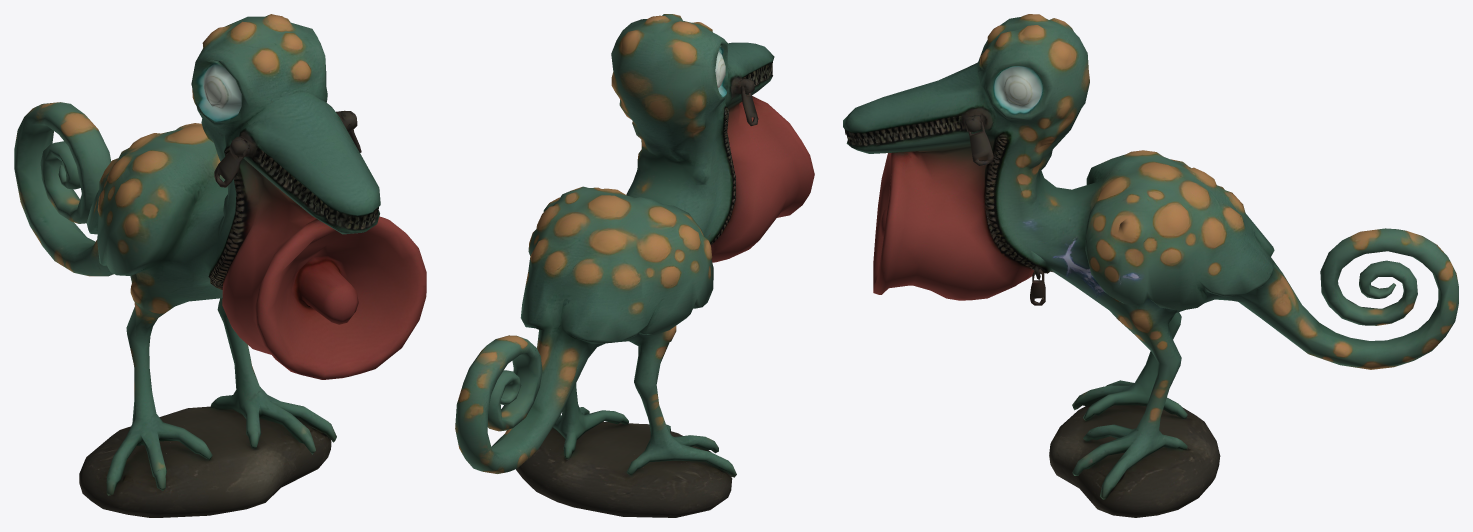
The model's file is tacke-gecko.glb.
The picture shows the model from 3 angles, left to right: view 1: azimuth 30°, elevation 25°; view 2: azimuth 150°, elevation 25°; view 3: azimuth 270°, elevation 25°; orthographic projection. The views are drawn at different scales.
Visible parts, largest first — view 1: tripo_node_141b2294-85b0-4cec-b881-33f48b761359; view 2: tripo_node_141b2294-85b0-4cec-b881-33f48b761359; view 3: tripo_node_141b2294-85b0-4cec-b881-33f48b761359.
Part boxes in pixels (bbox=[...]): tripo_node_141b2294-85b0-4cec-b881-33f48b761359: bbox=[14, 14, 426, 517]; tripo_node_141b2294-85b0-4cec-b881-33f48b761359: bbox=[455, 14, 814, 517]; tripo_node_141b2294-85b0-4cec-b881-33f48b761359: bbox=[843, 14, 1458, 517].
Size of the model in its own units: 0.4004 by 0.8184 by 0.998.
1 material, 1 textured.
